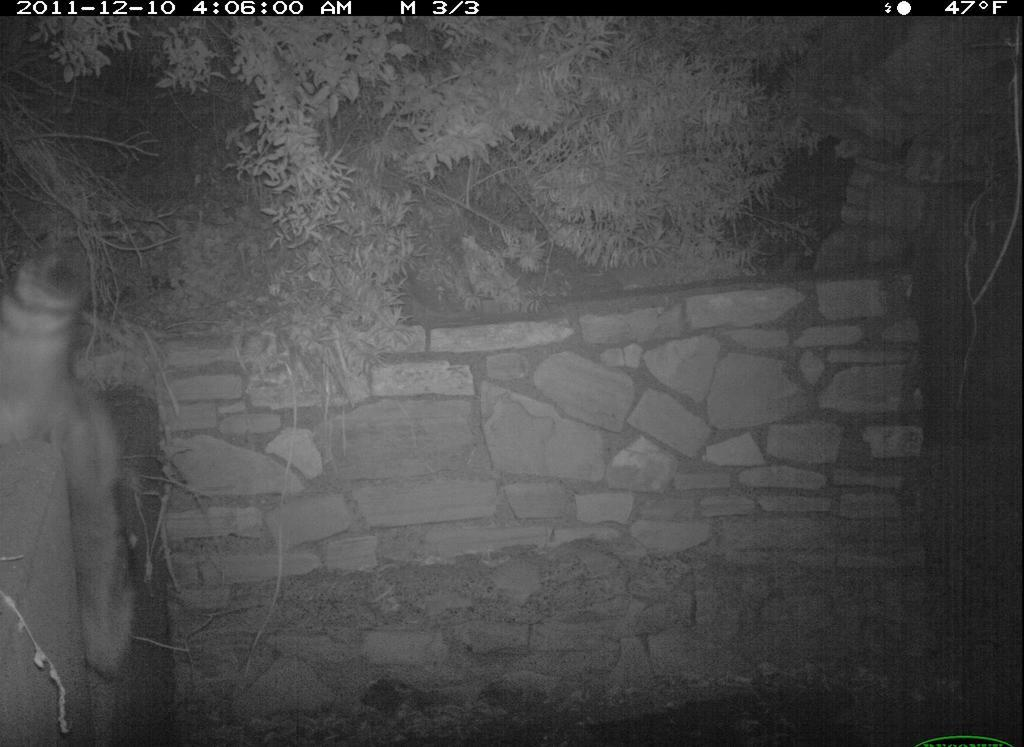raccoon: (1, 244, 137, 682)
